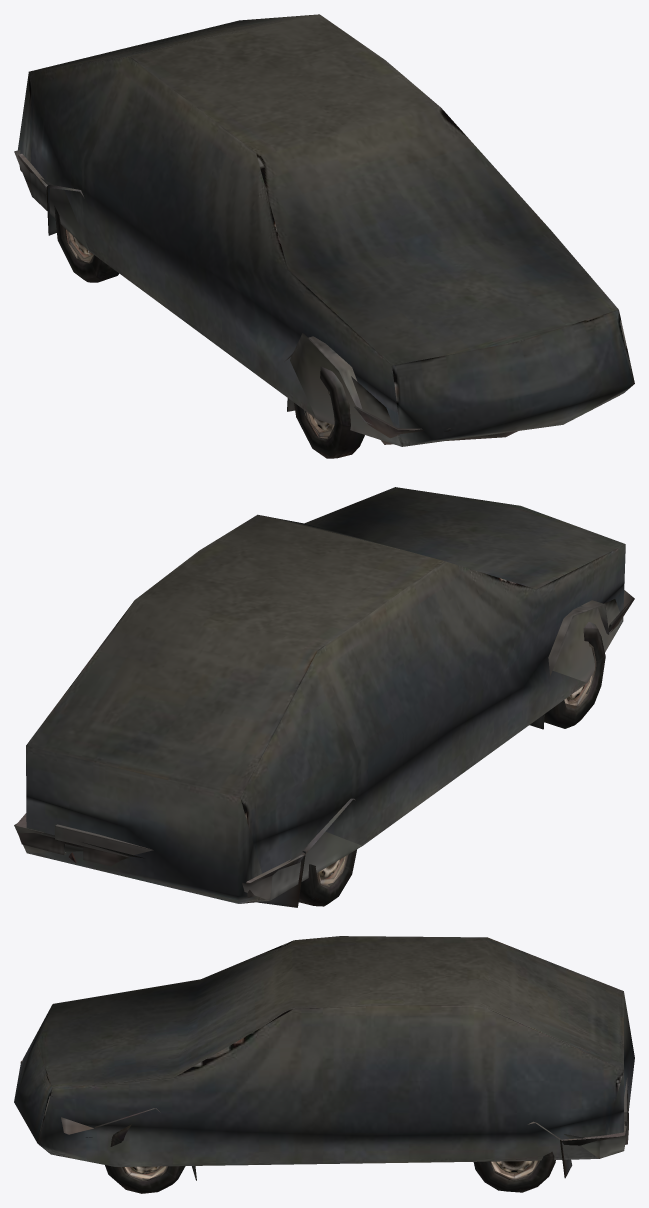
Rendered from covered_car.glb.
The picture shows the model from 3 angles, top to bottom: view 1: azimuth 30°, elevation 25°; view 2: azimuth 150°, elevation 25°; view 3: azimuth 270°, elevation 25°; orthographic projection. The views are drawn at different scales.
Visible parts, largest first — view 1: covered_car, covered_car_wheel_02, covered_car_wheel_03; view 2: covered_car, covered_car_wheel_02, covered_car_wheel_03; view 3: covered_car, covered_car_wheel_04, covered_car_wheel_01.
Part boxes in pixels (x1,y1,x2,y2): covered_car: [14, 14, 634, 446]; covered_car_wheel_02: [294, 366, 364, 458]; covered_car_wheel_03: [54, 205, 118, 282]; covered_car: [14, 487, 634, 907]; covered_car_wheel_02: [544, 622, 605, 728]; covered_car_wheel_03: [298, 849, 356, 906]; covered_car: [14, 936, 634, 1180]; covered_car_wheel_04: [473, 1151, 555, 1192]; covered_car_wheel_01: [105, 1124, 185, 1193].
Bounding box in the file's own units: 1.74 × 1.37 × 4.34.
Materials: 2 (2 with a texture image).
